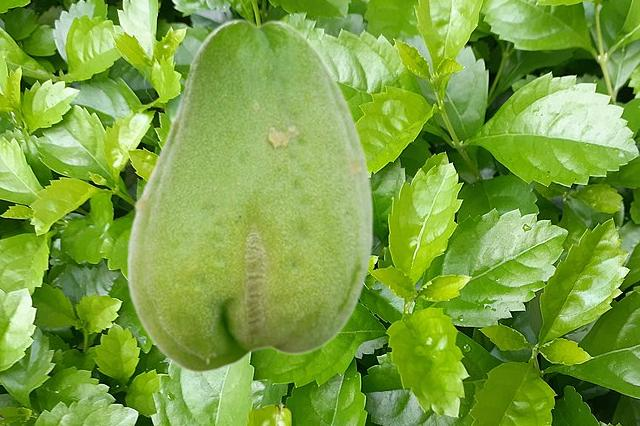sayote: (125, 17, 373, 372)
